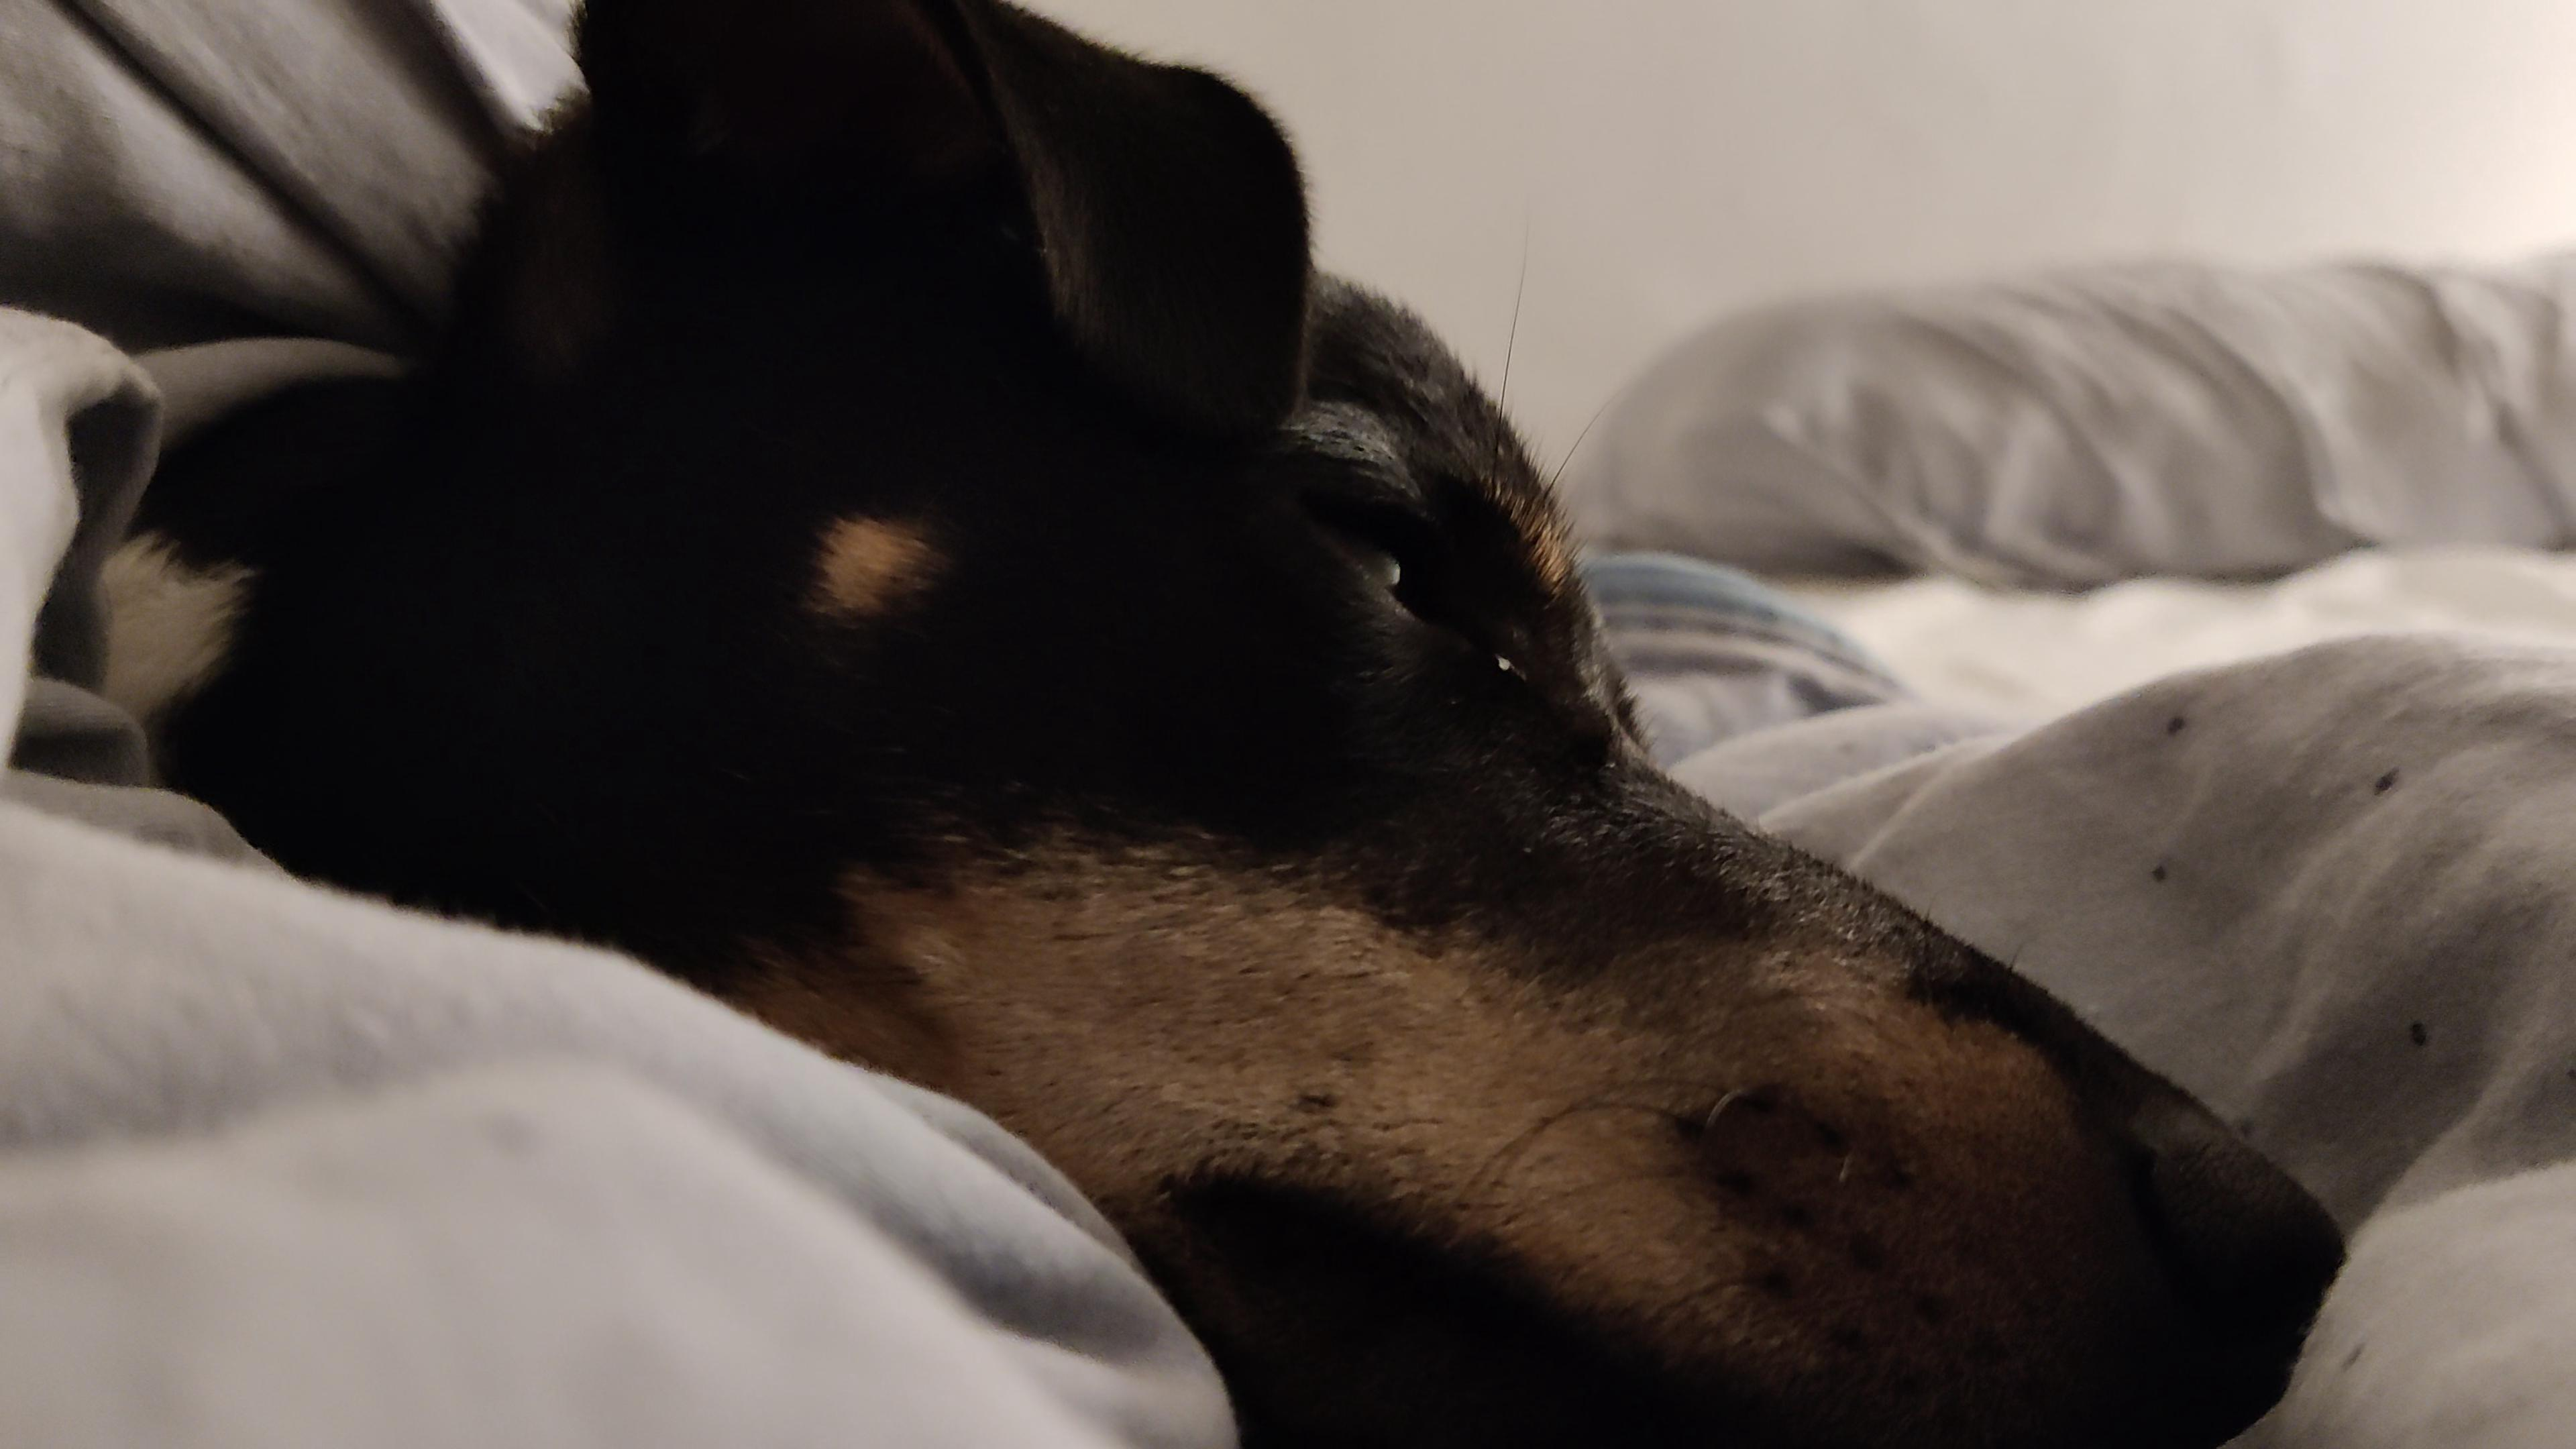Dog: (78, 0, 2380, 1449)
